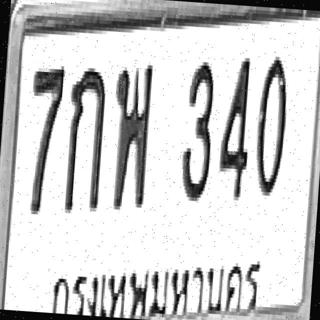A01: (62, 63, 108, 215)
A30: (107, 60, 154, 211)
N00: (252, 51, 290, 198)
N03: (178, 57, 218, 202)
N04: (216, 53, 254, 201)
N07: (23, 62, 65, 217)
P04: (46, 236, 264, 320)
